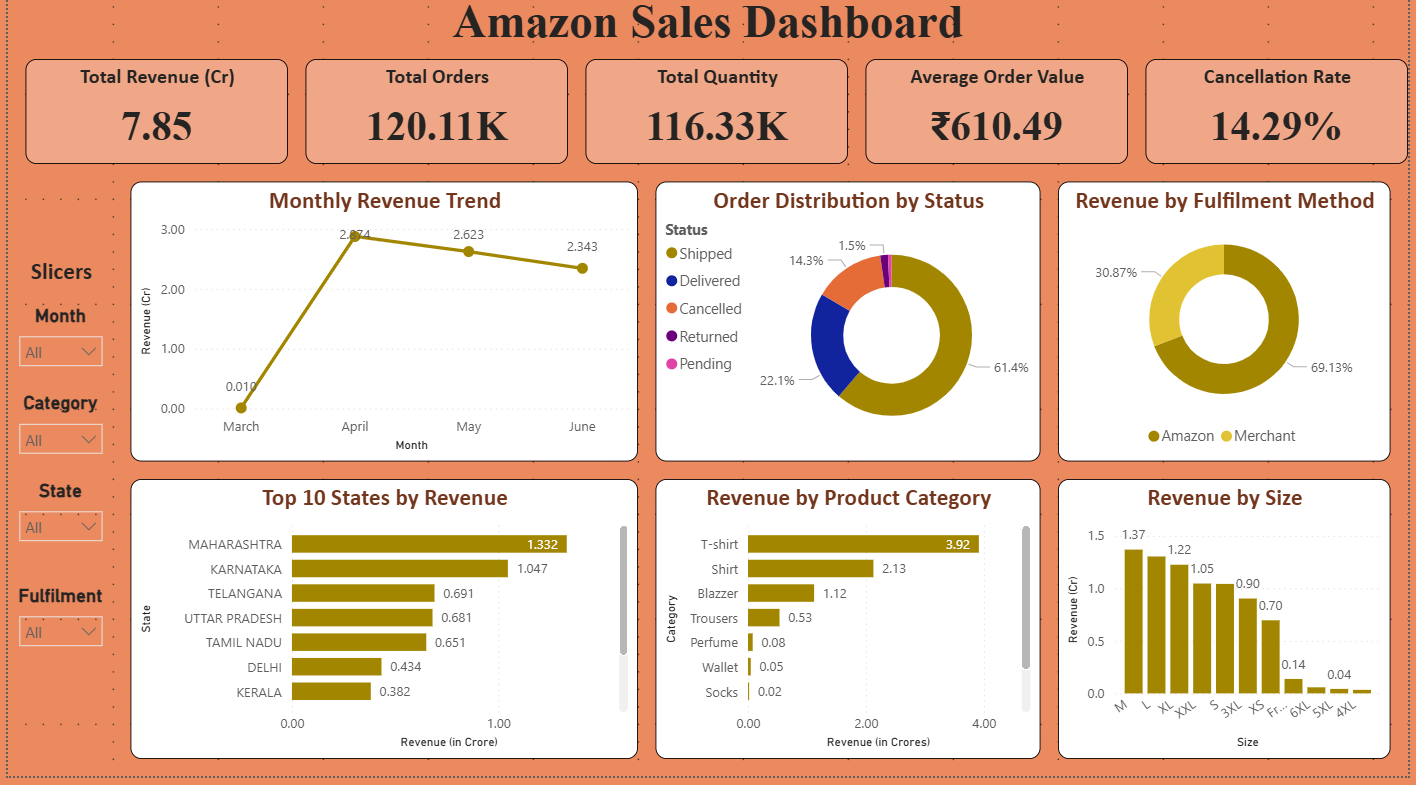

Layout of this report page (visuals, bound fields, positions):
{"tool":"powerbi","page":{"name":"Dashboard","canvas":[1280,720],"ordinal":0},"visuals":[{"type":"card","title":"Total Revenue (Cr)","fields":{"Values":["Amazon_Sales_Cleaned.Revenue (Cr)"]},"box":[16,64,240,96],"z":0},{"type":"card","title":"Average Order Value","fields":{"Values":["Amazon_Sales_Cleaned.Average Order Value"]},"box":[784,64,240,96],"z":1},{"type":"card","title":"Total Quantity","fields":{"Values":["Amazon_Sales_Cleaned.Total Quantity"]},"box":[528,64,240,96],"z":2},{"type":"card","title":"Total Orders","fields":{"Values":["Amazon_Sales_Cleaned.Total Orders"]},"box":[272,64,240,96],"z":3},{"type":"textbox","box":[0,0,1280,64],"z":4},{"type":"card","title":"Cancellation Rate","fields":{"Values":["Amazon_Sales_Cleaned.Cancellation Rate (%)"]},"box":[1040,64,240,96],"z":5},{"type":"slicer","title":"Month","fields":{"Values":["Amazon_Sales_Cleaned.month"]},"box":[0,288,96,64],"z":6},{"type":"slicer","title":"Category","fields":{"Values":["Amazon_Sales_Cleaned.category"]},"box":[0,368,96,64],"z":7},{"type":"slicer","title":"Fulfilment","fields":{"Values":["Amazon_Sales_Cleaned.fulfilment"]},"box":[0,544,96,64],"z":8},{"type":"slicer","title":"State","fields":{"Values":["Amazon_Sales_Cleaned.ship_state"]},"box":[0,448,96,64],"z":9},{"type":"lineChart","title":"Monthly Revenue Trend","fields":{"Y":["Amazon_Sales_Cleaned.Revenue (Cr)"],"Category":["Amazon_Sales_Cleaned.month"]},"box":[112,176,464,256],"z":10},{"type":"clusteredBarChart","title":"Revenue by Product Category","fields":{"Category":["Amazon_Sales_Cleaned.category"],"Y":["Amazon_Sales_Cleaned.Revenue (Cr)"]},"box":[592,448,352,256],"z":11},{"type":"donutChart","title":"Order Distribution by Status","fields":{"Y":["Amazon_Sales_Cleaned.Total Orders"],"Category":["Amazon_Sales_Cleaned.Order Status Group"]},"box":[592,176,352,256],"z":12},{"type":"clusteredBarChart","title":"Top 10 States by Revenue","fields":{"Category":["Amazon_Sales_Cleaned.ship_state"],"Y":["Amazon_Sales_Cleaned.Revenue (Cr)"]},"box":[112,448,464,256],"z":13},{"type":"donutChart","title":"Revenue by Fulfilment Method","fields":{"Category":["Amazon_Sales_Cleaned.fulfilment"],"Y":["Amazon_Sales_Cleaned.Revenue (Cr)"]},"box":[960,176,304,256],"z":14},{"type":"columnChart","title":"Revenue by Size","fields":{"Category":["Amazon_Sales_Cleaned.size"],"Y":["Amazon_Sales_Cleaned.Revenue (Cr)"]},"box":[960,448,304,256],"z":15},{"type":"textbox","box":[16,240,96,48],"z":16}]}

Visuals, with their boxes in screenshot pixels (x1, y1, x2, y2), scaled from the page's 1280x720 canvas onto the 1416x785 screenshot:
"Total Revenue (Cr)" card: pyautogui.locateOnScreen(18, 70, 283, 174)
"Average Order Value" card: pyautogui.locateOnScreen(867, 70, 1133, 174)
"Total Quantity" card: pyautogui.locateOnScreen(584, 70, 850, 174)
"Total Orders" card: pyautogui.locateOnScreen(301, 70, 566, 174)
textbox: pyautogui.locateOnScreen(0, 0, 1415, 70)
"Cancellation Rate" card: pyautogui.locateOnScreen(1150, 70, 1415, 174)
"Month" slicer: pyautogui.locateOnScreen(0, 314, 106, 384)
"Category" slicer: pyautogui.locateOnScreen(0, 401, 106, 471)
"Fulfilment" slicer: pyautogui.locateOnScreen(0, 593, 106, 663)
"State" slicer: pyautogui.locateOnScreen(0, 488, 106, 558)
"Monthly Revenue Trend" lineChart: pyautogui.locateOnScreen(124, 192, 637, 471)
"Revenue by Product Category" clusteredBarChart: pyautogui.locateOnScreen(655, 488, 1044, 768)
"Order Distribution by Status" donutChart: pyautogui.locateOnScreen(655, 192, 1044, 471)
"Top 10 States by Revenue" clusteredBarChart: pyautogui.locateOnScreen(124, 488, 637, 768)
"Revenue by Fulfilment Method" donutChart: pyautogui.locateOnScreen(1062, 192, 1398, 471)
"Revenue by Size" columnChart: pyautogui.locateOnScreen(1062, 488, 1398, 768)
textbox: pyautogui.locateOnScreen(18, 262, 124, 314)
